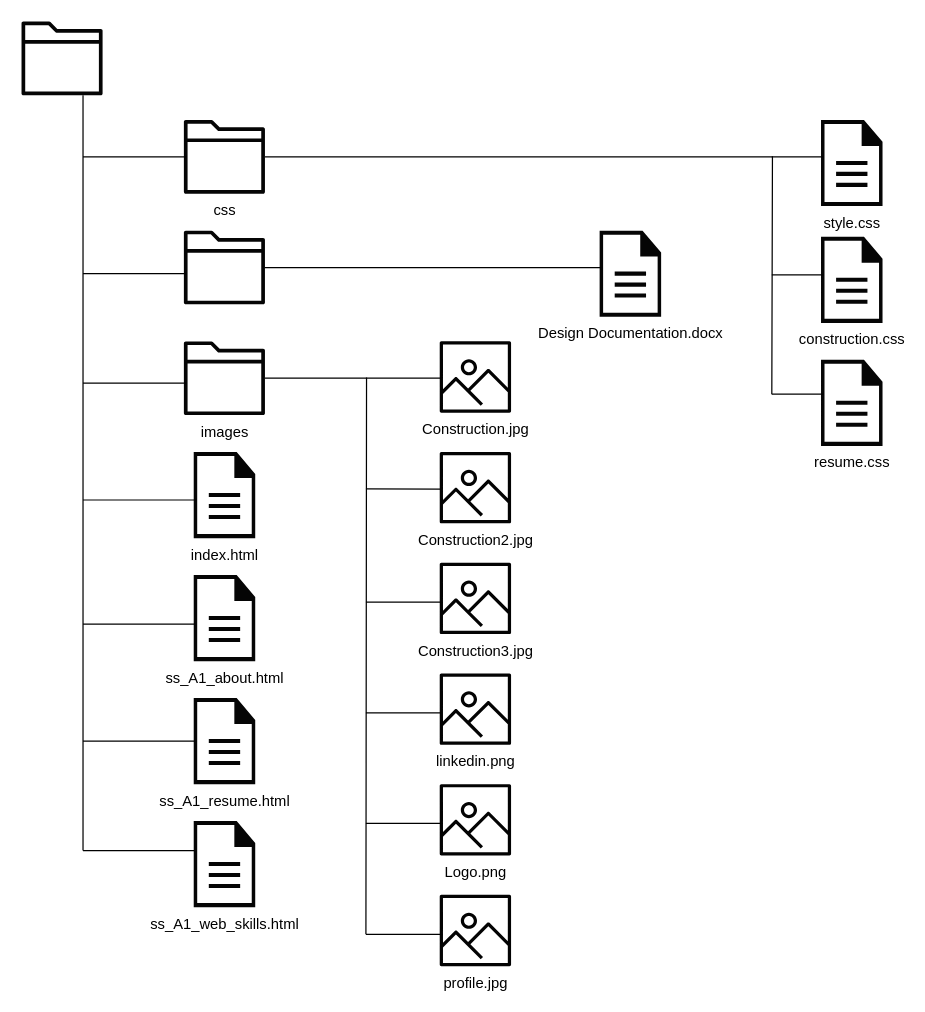
Image size: 925x1012. Some labels were removed from this diagram. The shapes that lost their labels are listed below. From the top down, each one's centre as x and y in pixels, then its label:
At (x=61, y=58): "root".
At (x=223, y=267): "documents".
